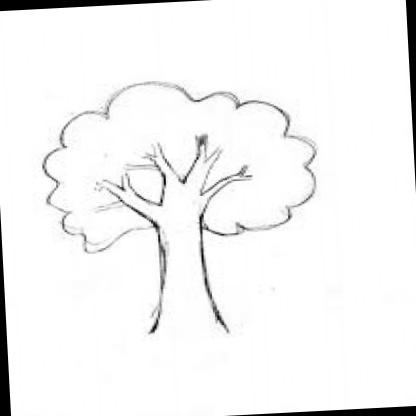branch_cut: (89, 125, 258, 224)
crown_cloud: (40, 68, 324, 256)
trunk_straight: (152, 242, 218, 306)
